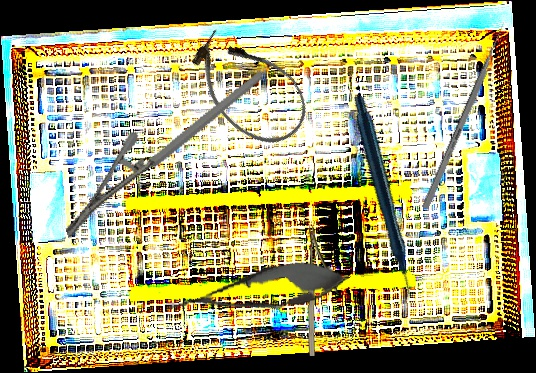Cannula: (175, 16, 322, 161)
Handpiece: (288, 93, 473, 306)
Micro Scissor: (161, 251, 354, 331)
Needle Holder: (37, 70, 292, 240), (304, 224, 341, 357)
Pusher: (421, 20, 509, 210)
